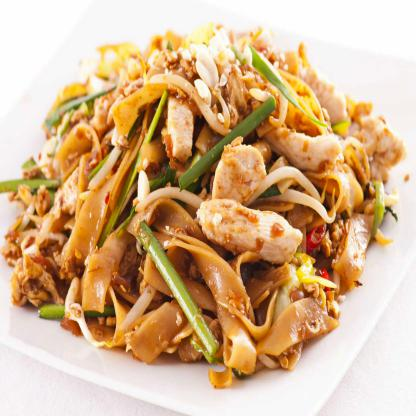Pad Thai: (8, 19, 410, 386)
